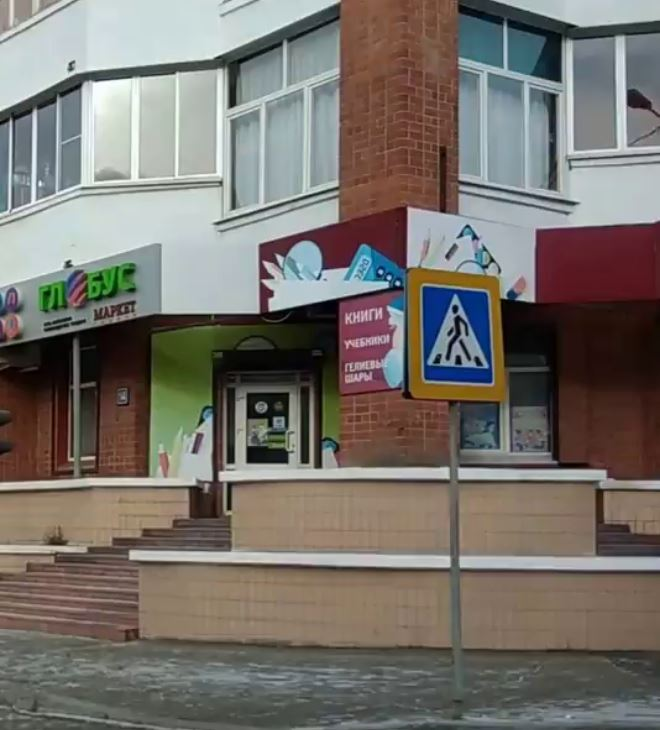Yaya Gecidi: (421, 284, 493, 386)
